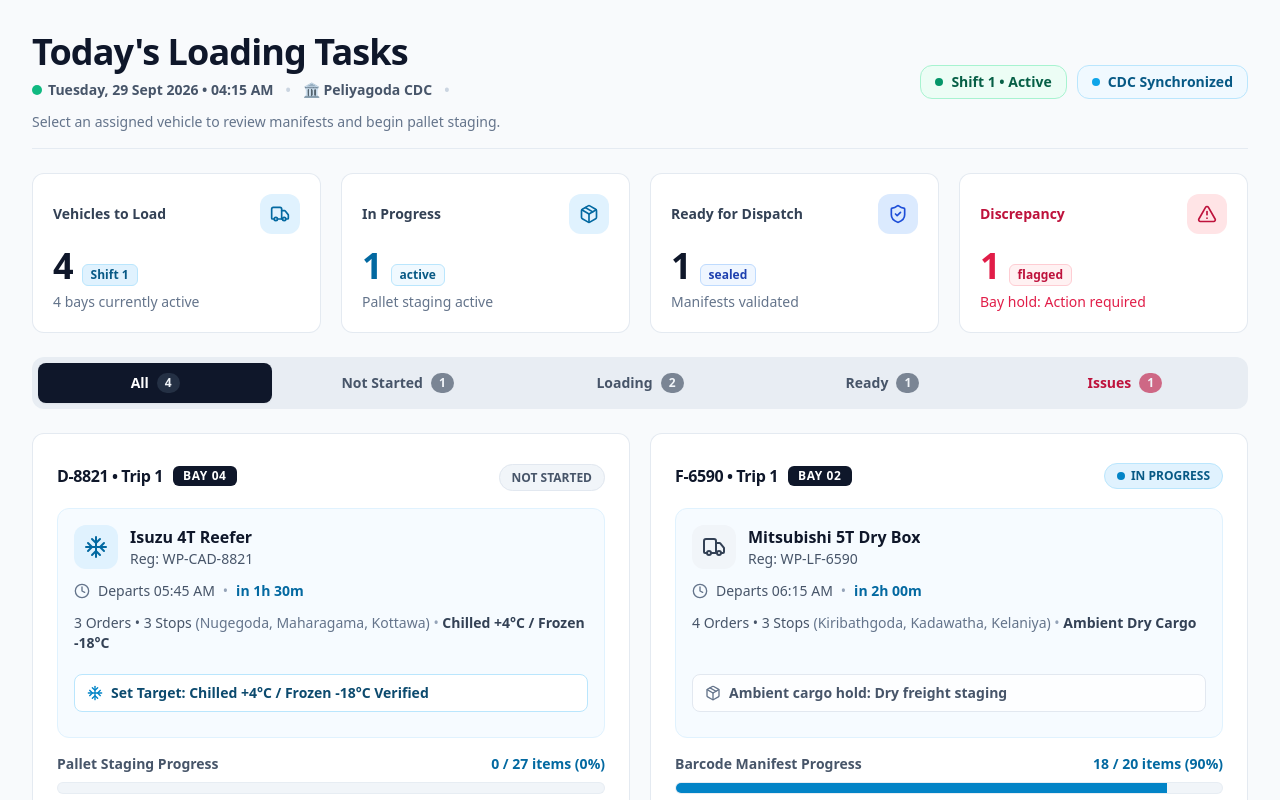
Loader Feature 1: Loading Tasks Dashboard & Vehicle Loading Details (LS-02 & LS-03) › 4. filters tasks by status tab (All, Not Started, Loading, Ready)
Expected: the text "Vehicles to Load" is shown, [53,204,166,224]
Note: Click "Not Started" filter
Step 1. Click the button "Not Started 1" → (398,383), box [280,363,515,403]
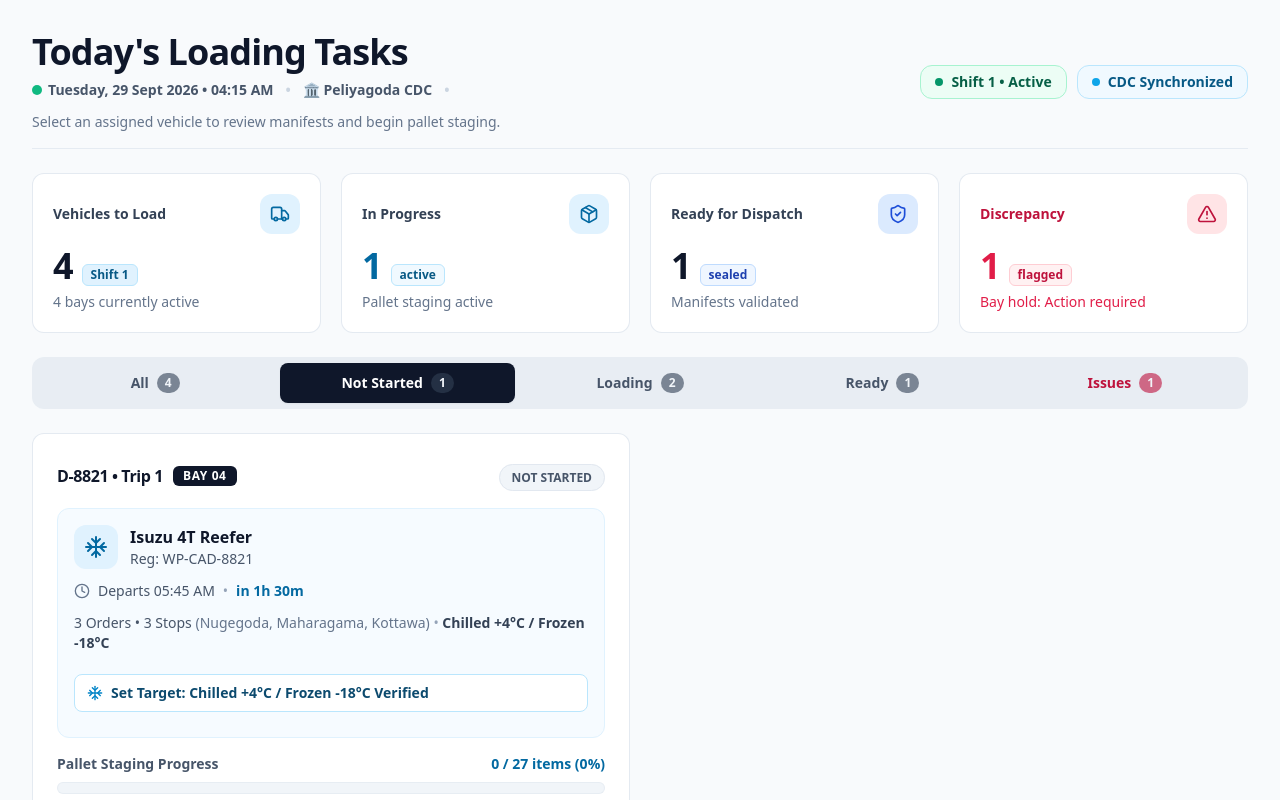
Expected: the heading "Isuzu 4T Reefer" is shown, [130,525,252,549]
Expected: the heading "Mitsubishi 5T Dry Box" is gone
Note: Click "Ready" filter
Step 2. Click the button "Ready 1" → (882,383), box [765,363,1000,403]
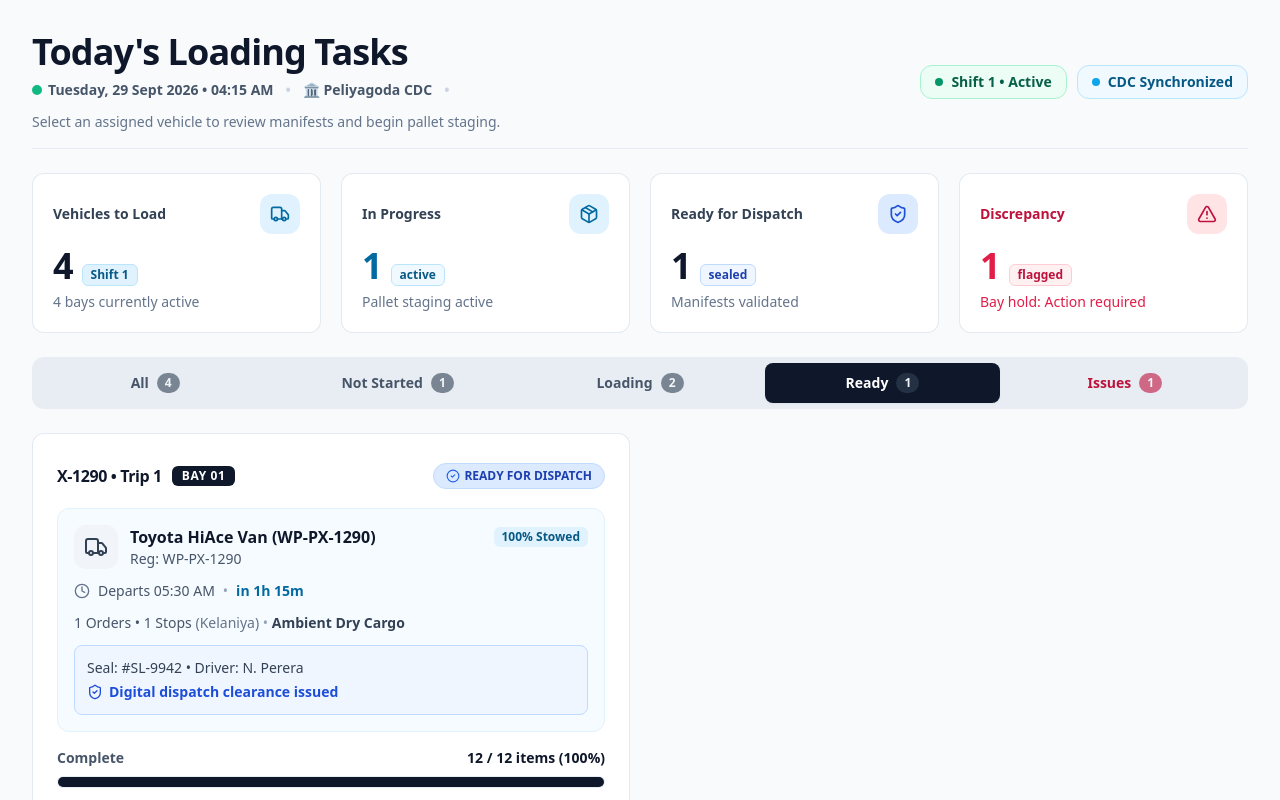
Expected: the heading "Toyota HiAce Van (WP-PX-1290)" is shown, [130,525,376,549]
Expected: the heading "Isuzu 4T Reefer" is gone
Note: Click "All" filter to restore
Step 3. Click the button "All 4" → (155,383), box [38,363,272,403]
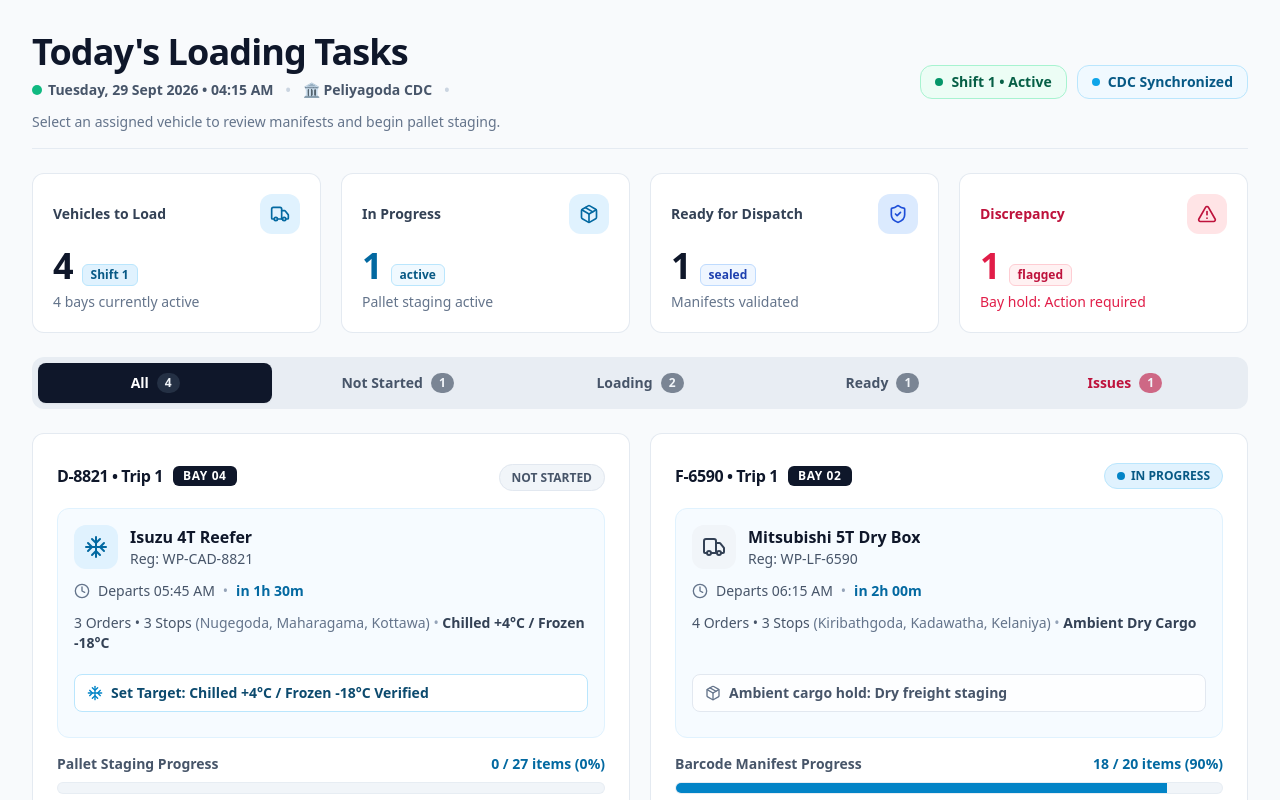
Expected: the heading "Isuzu 4T Reefer" is shown, [130,525,252,549]
